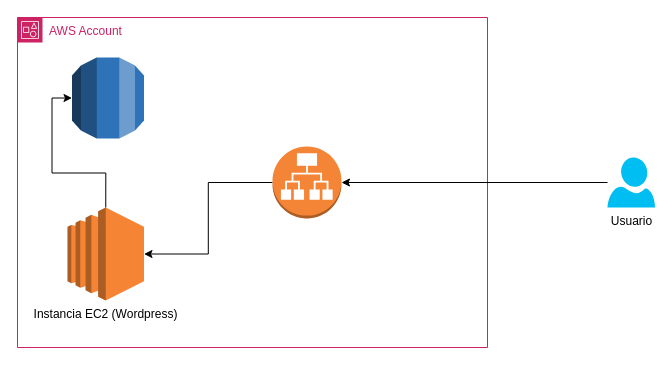
This 672x365 diagram has some shape labels left out. Each missing label, with the centre of its shape:
Banco RDS (MySQL): the point at 107,97
Load-Balance: the point at 307,182
